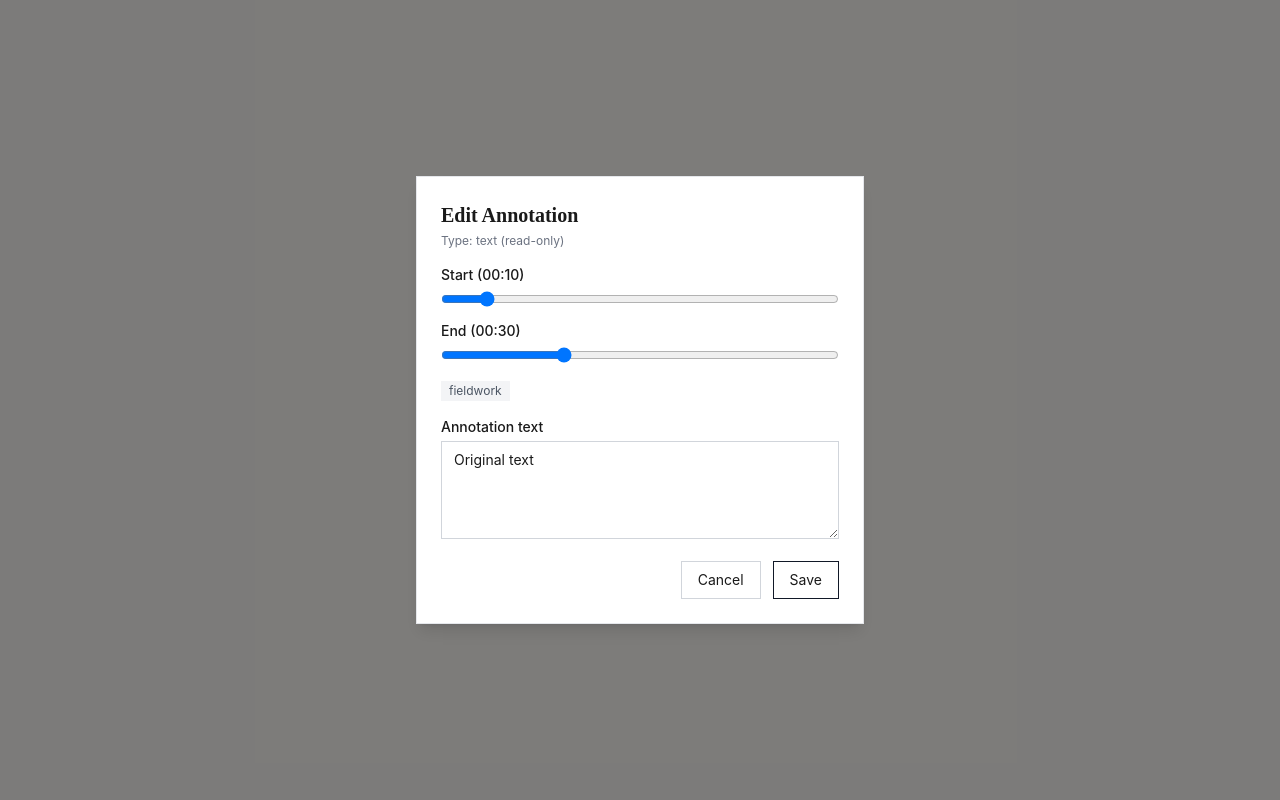
Test case: EditAnnotationModal › shows error on API failure and does not close
The image size is (1280, 800).
expect the heading "Edit Annotation" is shown: met, box [441, 204, 578, 226]
Click the button "Save". click: [806, 580]
box: [773, 561, 839, 599]
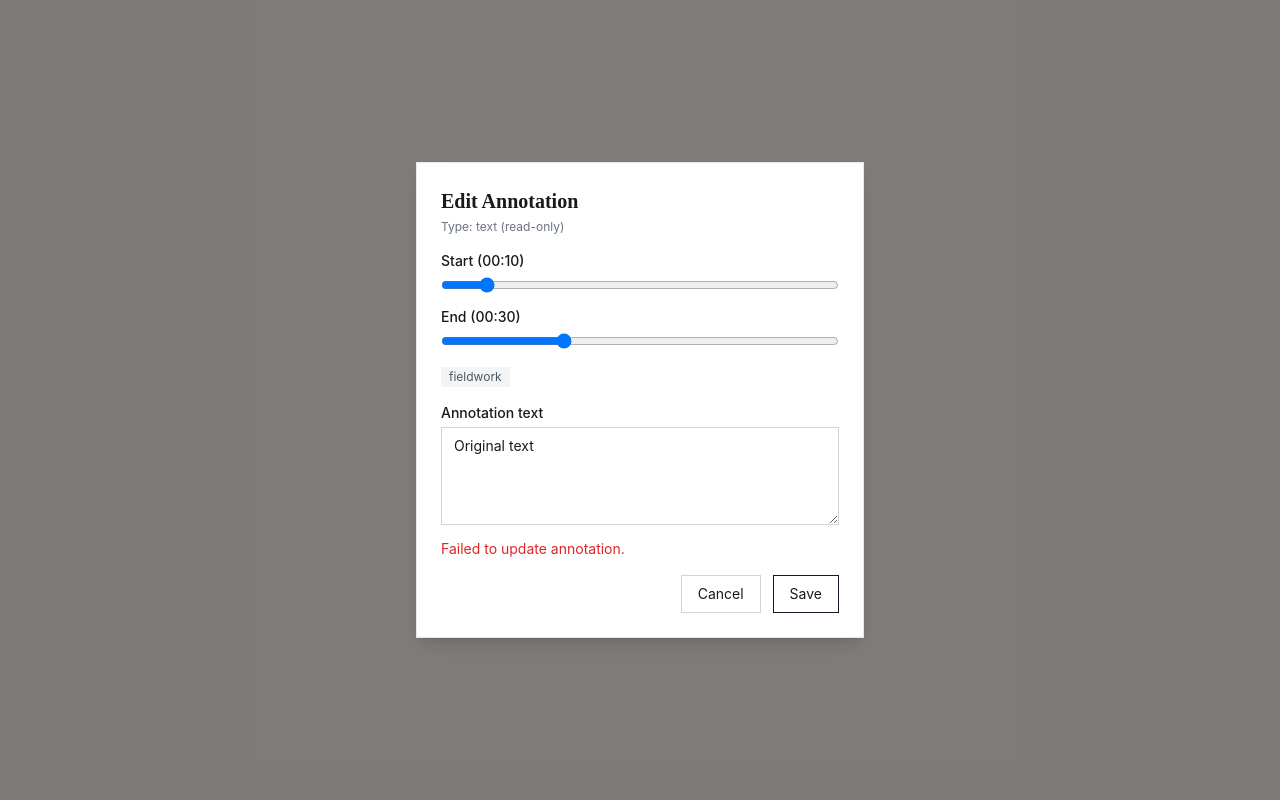
expect the heading "Edit Annotation" is shown: met, box [441, 190, 578, 212]
expect the text "Failed to update annotation." is shown: met, box [441, 540, 625, 557]
